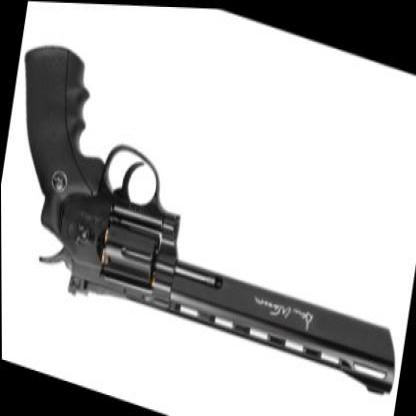pistol: (0, 23, 415, 400)
